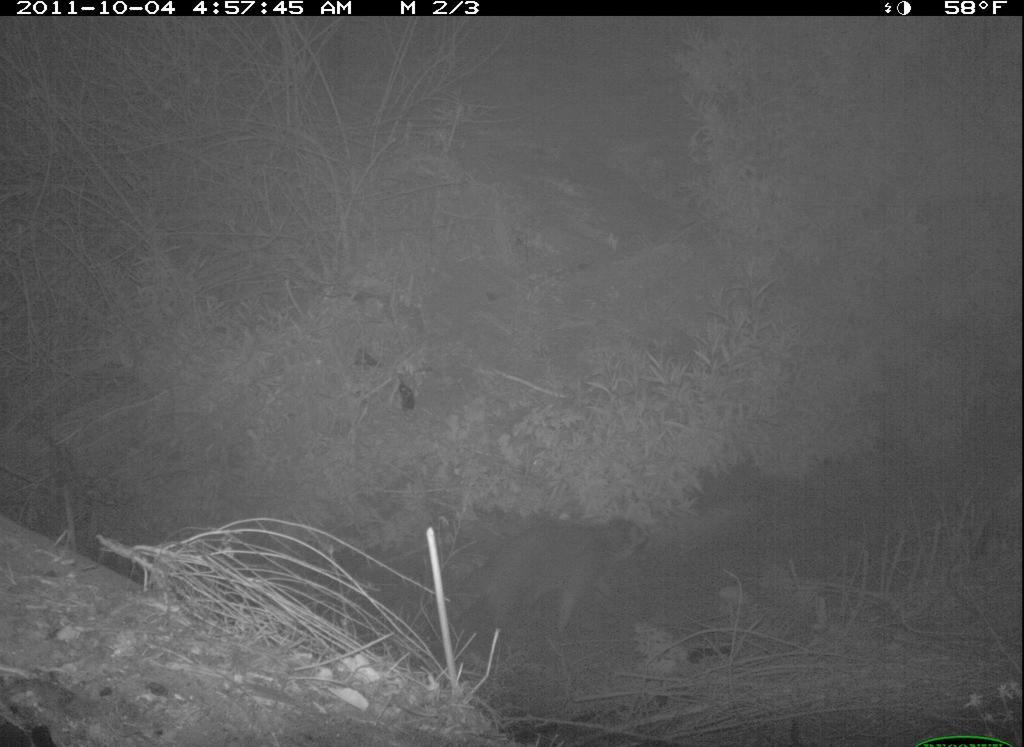raccoon: (442, 513, 662, 639)
